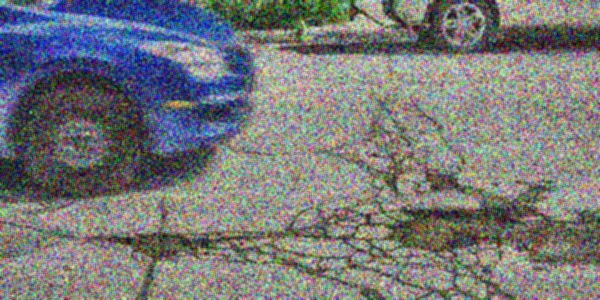pothole: (387, 197, 516, 251), (119, 230, 218, 261)
